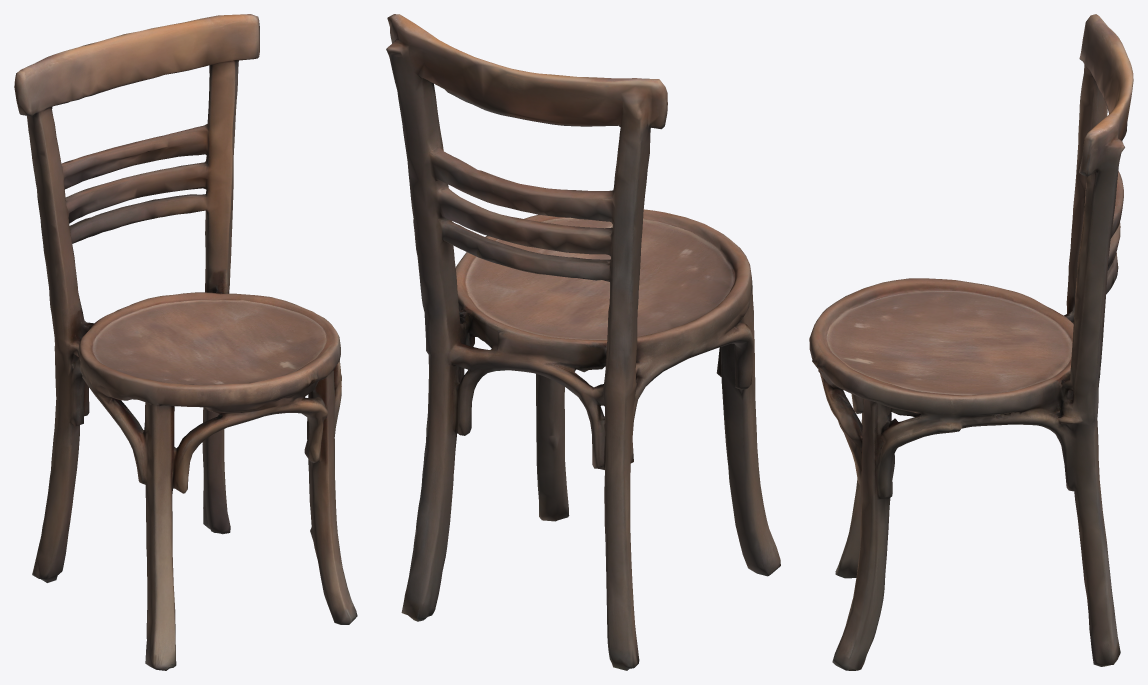
The model's file is Meshy_AI_silla_0323185118_texture.glb.
3 views of the same model, side by side, from view 1: azimuth 30°, elevation 25°; view 2: azimuth 150°, elevation 25°; view 3: azimuth 270°, elevation 25° (orthographic). The views are drawn at different scales.
Bounding box in the file's own units: 0.9848 × 2 × 1.07.
1 material, 1 textured.
